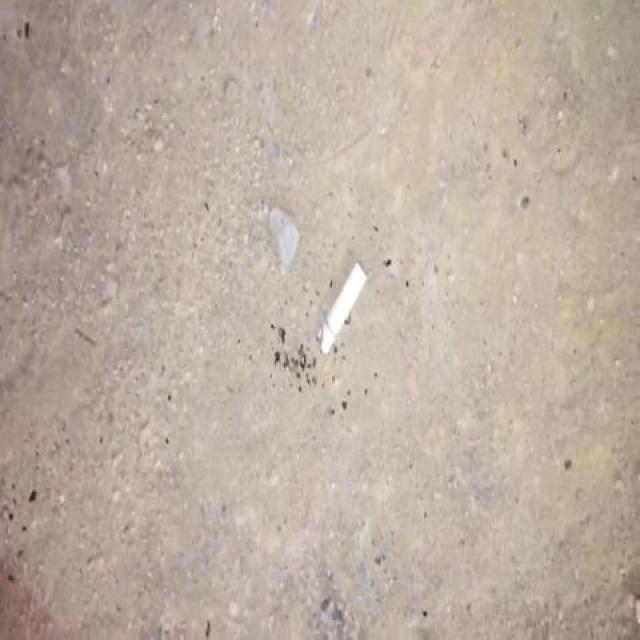non-organic waste: (312, 255, 373, 361)
